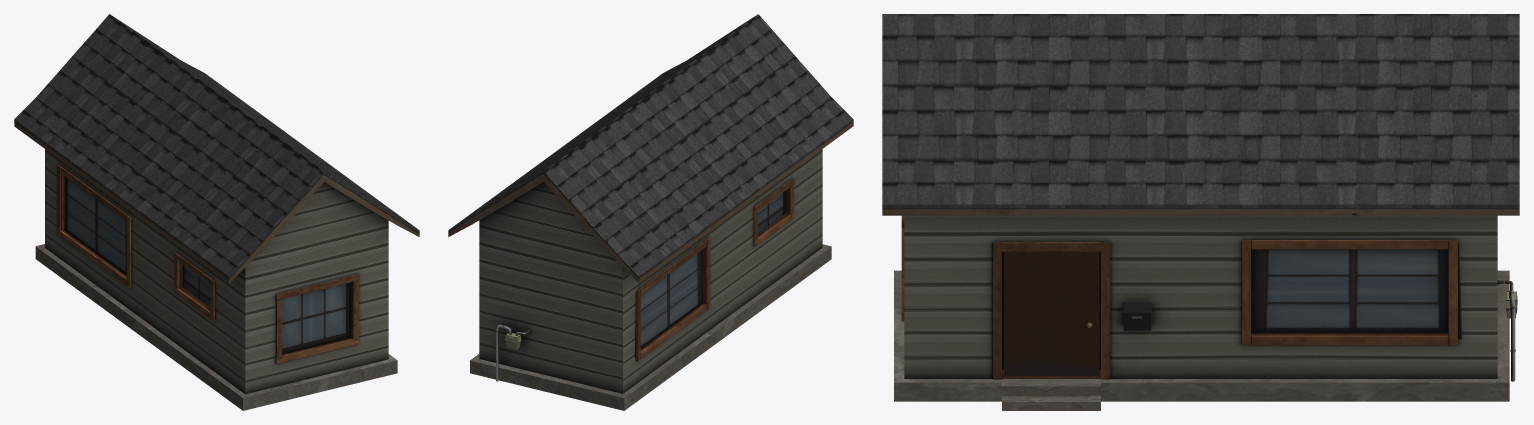
The model's file is simple_house.78c8aa932cfe.glb.
3 renders of one model, left to right at view 1: azimuth 30°, elevation 25°; view 2: azimuth 150°, elevation 25°; view 3: azimuth 270°, elevation 25°, orthographic. The views are drawn at different scales.
Visible parts, largest first — view 1: House_Joined; view 2: House_Joined; view 3: House_Joined.
Part boxes in pixels (x1=…): House_Joined: x1=14, y1=14, x2=419, y2=410; House_Joined: x1=448, y1=14, x2=853, y2=410; House_Joined: x1=882, y1=14, x2=1519, y2=410.
Size of the model in its own units: 6.59 by 7.39 by 12.87.
1 material, 1 textured.
